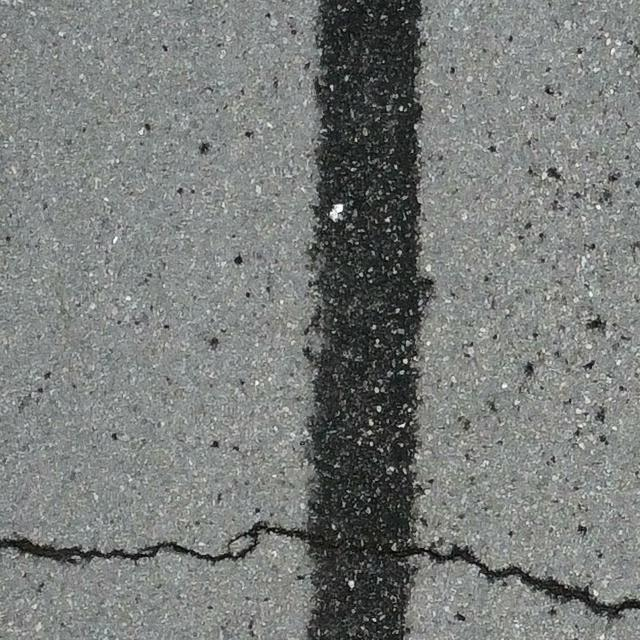TransverseCrack: (1, 519, 640, 620)
